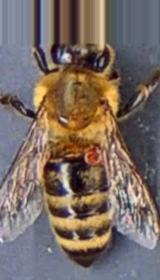varroa_mite: (76, 138, 105, 168)
